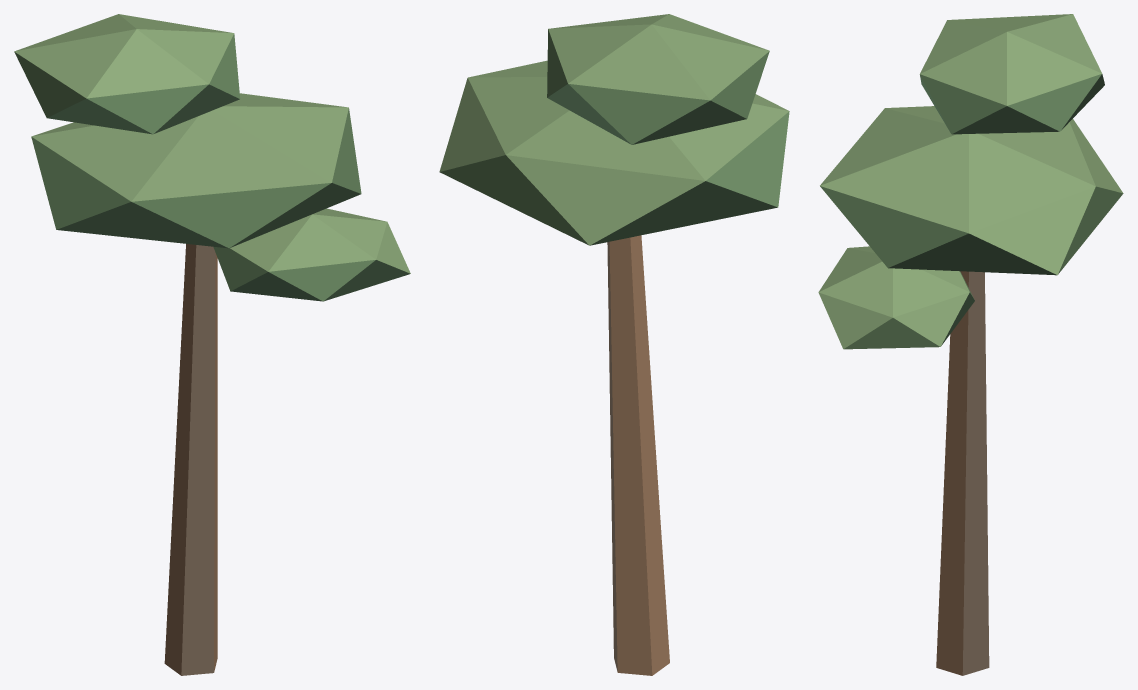
The model's file is pine.glb.
3 renders of one model, left to right at view 1: azimuth 30°, elevation 25°; view 2: azimuth 150°, elevation 25°; view 3: azimuth 270°, elevation 25°, orthographic. The views are drawn at different scales.
Parts seen in each view (by area): view 1: pine; view 2: pine; view 3: pine.
Part boxes in pixels (<box>): pine: <box>14,14,410,675</box>; pine: <box>439,14,789,675</box>; pine: <box>818,14,1123,675</box>.
Bounding box in the file's own units: 2.62 × 5.36 × 2.41.
